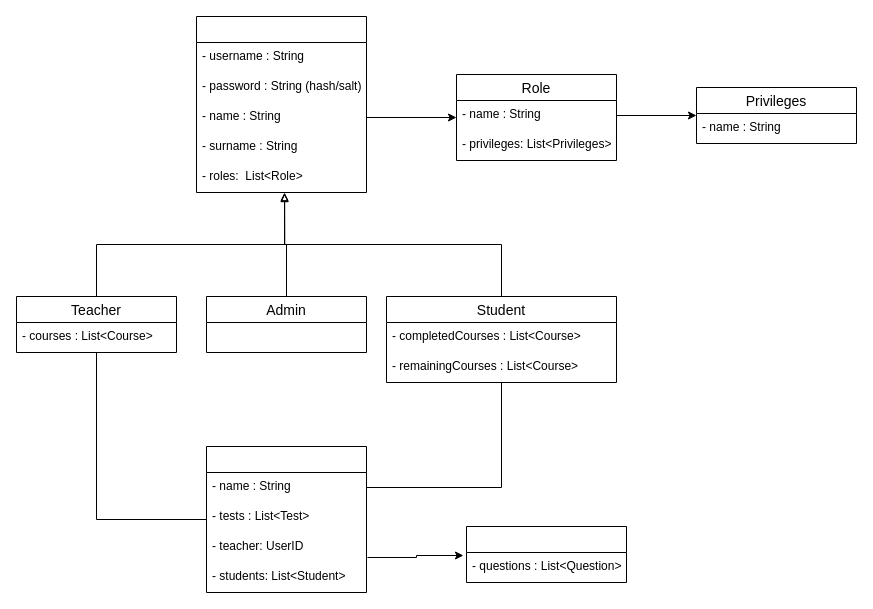
Image size: 873x609. Some labels were removed from this diagram. Here are the shapes that lost their labels. From the top down, the box of each, then its label:
(196, 16, 366, 192): User {abstract}
(206, 446, 366, 592): Course
(466, 526, 626, 582): Test
